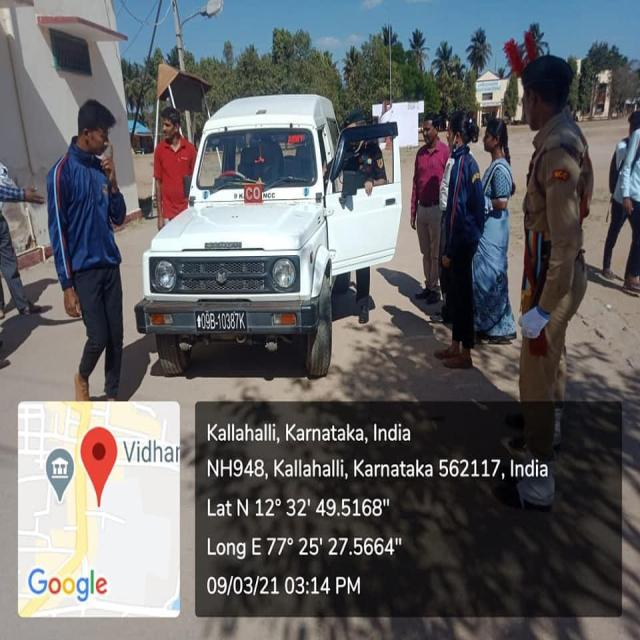0: (201, 313, 206, 330), (222, 314, 226, 330)
1: (217, 314, 222, 329)
3: (226, 313, 230, 329)
7: (234, 313, 240, 330)
8: (230, 313, 235, 329)
9: (205, 313, 210, 329)
b: (210, 314, 215, 329)
k: (240, 313, 246, 329)
